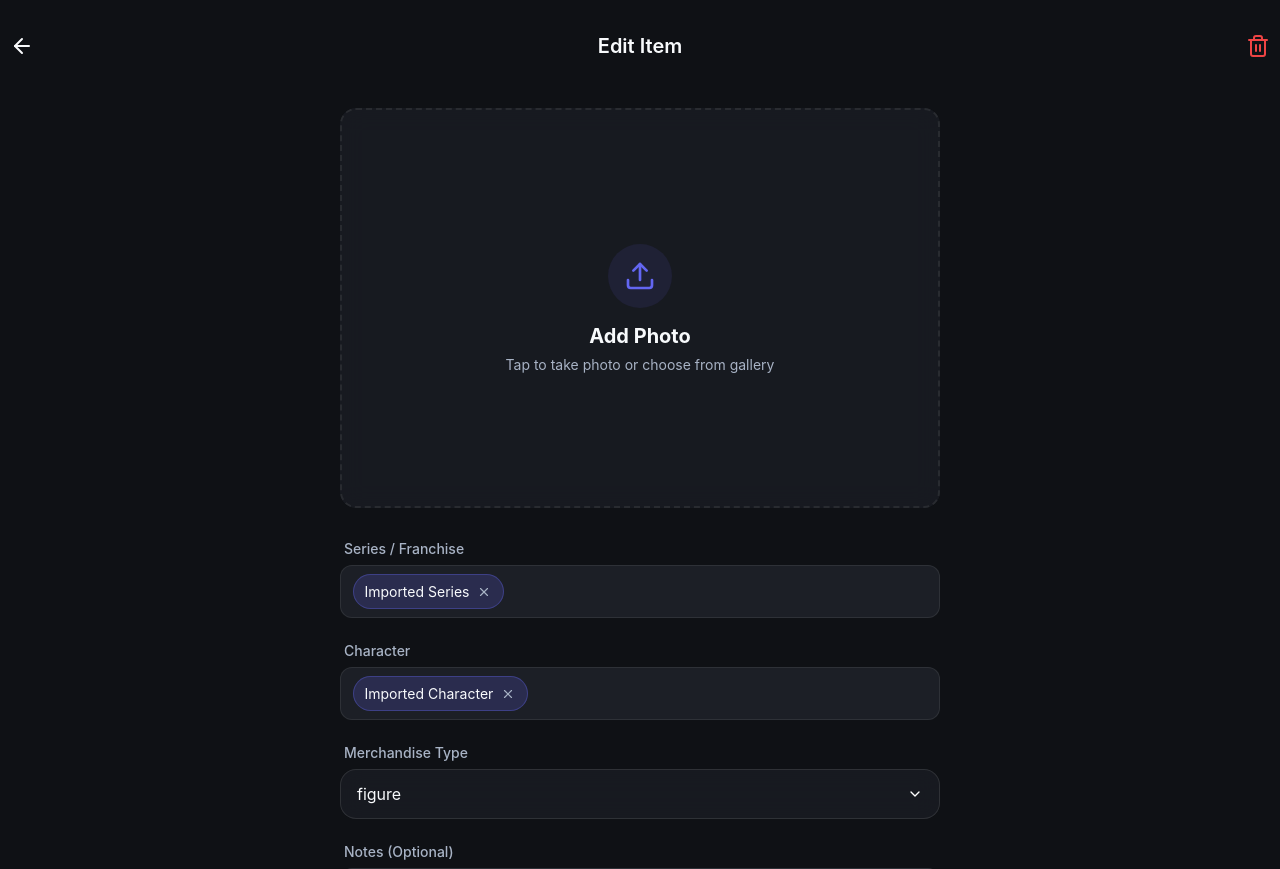
it: AddEditItem smoke flows › asks for confirmation before deleting and reports delete failures
Expected: the text "Imported Series" is shown, [364, 583, 470, 600]
Click the button named "Are you sure you want to delete this item?". click: (1258, 46)
box: [1236, 24, 1279, 68]
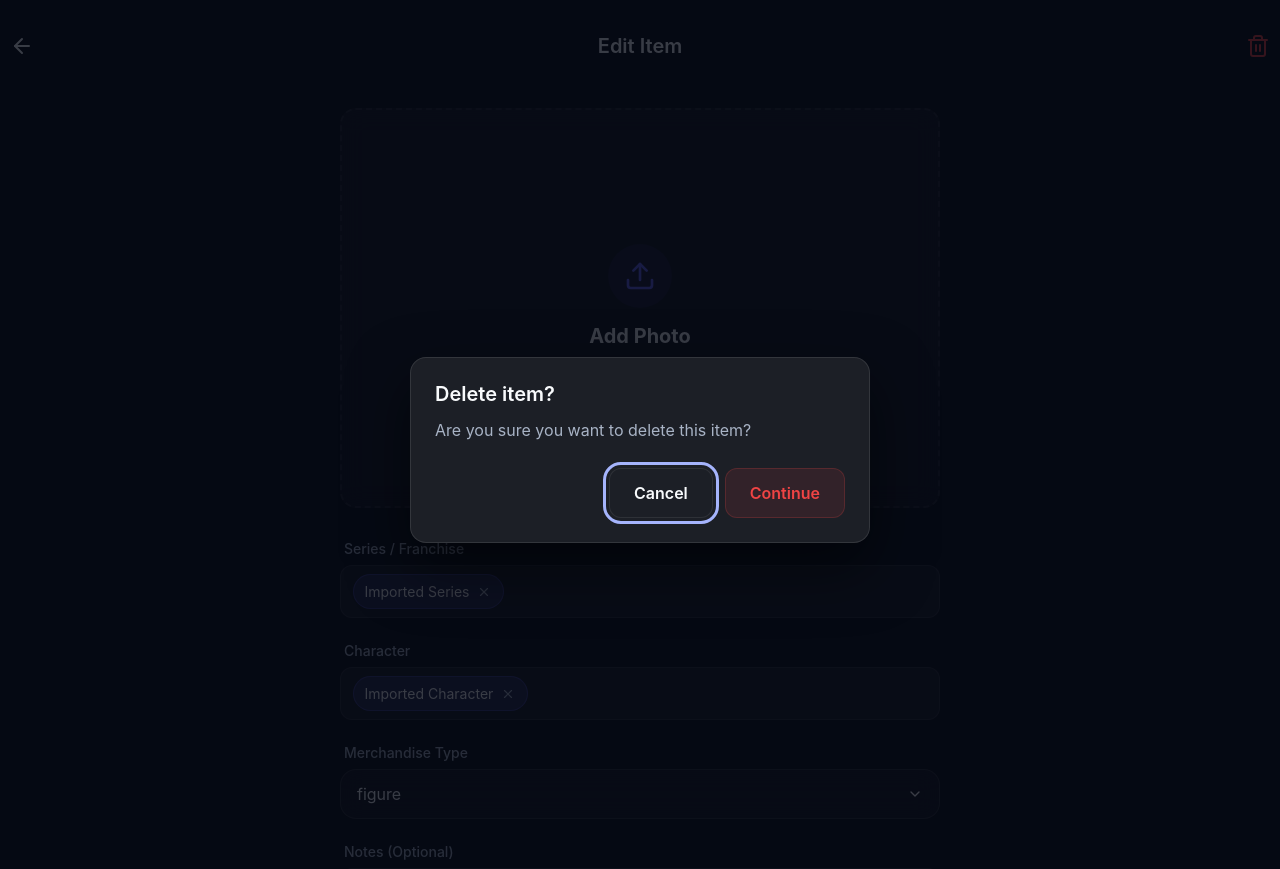
Expected: the dialog "Delete item?" is shown, [410, 357, 870, 543]
Click the button "Continue". click: (785, 493)
box: [725, 468, 845, 518]
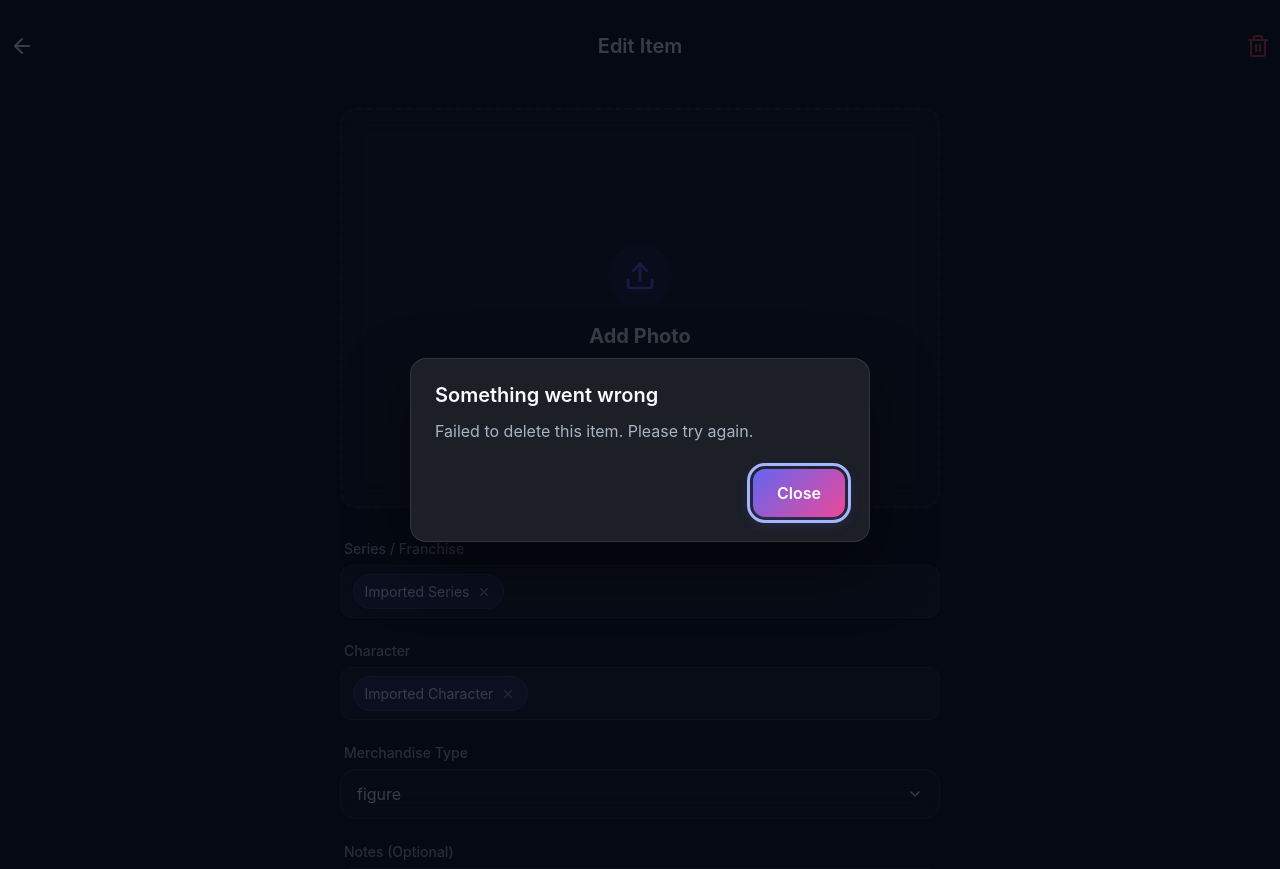
Expected: the dialog "Something went wrong" shows "Failed to delete this item.", [435, 421, 753, 441]
